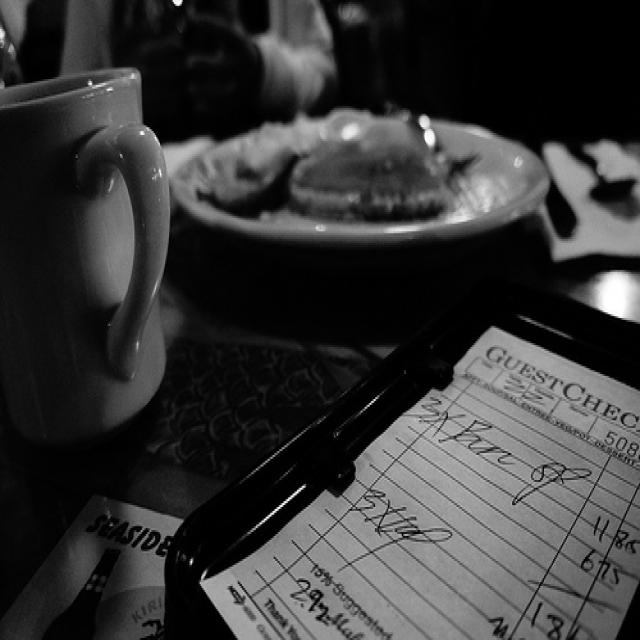Cup: (0, 48, 167, 439)
Table: (0, 131, 640, 640)
